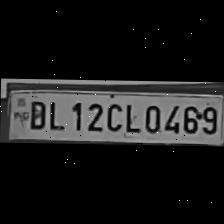0: (140, 100, 160, 132)
1: (64, 98, 84, 132)
2: (81, 98, 103, 133)
4: (160, 100, 180, 134)
6: (178, 102, 200, 134)
9: (198, 102, 218, 134)
C: (102, 100, 122, 132)
D: (24, 96, 46, 130)
L: (44, 97, 66, 131), (120, 100, 140, 134)
